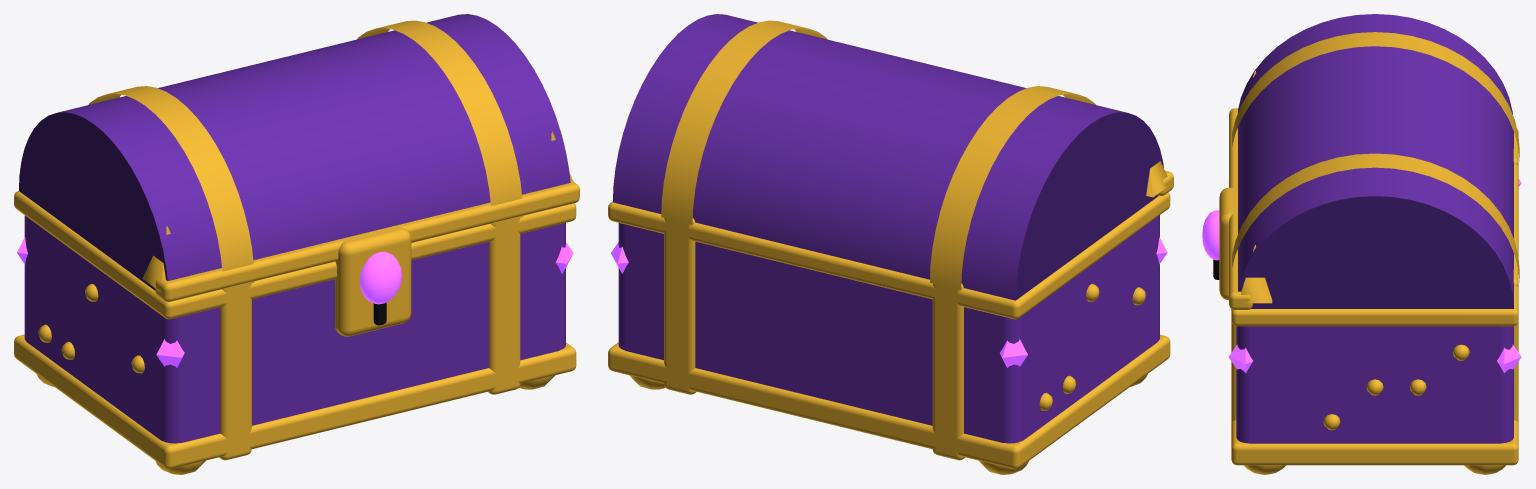
Rendered from chest_epic.glb.
3 renders of one model, left to right at view 1: azimuth 30°, elevation 25°; view 2: azimuth 150°, elevation 25°; view 3: azimuth 270°, elevation 25°, orthographic. The views are drawn at different scales.
Visible parts, largest first — view 1: LidBarrel, Base, LidCap-1, BaseRim, BaseTopRim, LidFrontRim, LidBand1, LidBand-1, LockPlate, Band1, Band-1, LockGem; view 2: LidBarrel, Base, LidCap-1, BaseRim, BaseTopRim, LidBand-1, LidBand1, Band1, Band-1; view 3: LidBarrel, Base, LidCap1, BaseRim, BaseTopRim, LidBand-1, LidBand1, LidFrontRim, LockPlate, Band1, LockGem, Corner1 (+2 smaller).
Boxes of the visible parts, left/top/right/bottom form: LidBarrel: left=57, top=14, right=570, bottom=280; Base: left=24, top=215, right=565, bottom=443; LidCap-1: left=19, top=112, right=167, bottom=290; BaseRim: left=14, top=334, right=576, bottom=469; BaseTopRim: left=14, top=191, right=576, bottom=319; LidFrontRim: left=155, top=181, right=579, bottom=301; LidBand1: left=357, top=20, right=523, bottom=224; LidBand-1: left=88, top=86, right=254, bottom=290; LockPlate: left=335, top=227, right=411, bottom=336; Band1: left=488, top=218, right=520, bottom=394; Band-1: left=219, top=283, right=251, bottom=460; LockGem: left=360, top=251, right=401, bottom=304; LidBarrel: left=613, top=14, right=1127, bottom=300; Base: left=618, top=215, right=1159, bottom=443; LidCap-1: left=1015, top=112, right=1163, bottom=300; BaseRim: left=608, top=334, right=1170, bottom=469; BaseTopRim: left=608, top=192, right=1170, bottom=319; LidBand-1: left=930, top=86, right=1095, bottom=290; LidBand1: left=661, top=20, right=827, bottom=224; Band1: left=664, top=218, right=696, bottom=394; Band-1: left=932, top=283, right=964, bottom=460; LidBarrel: left=1238, top=14, right=1513, bottom=306; Base: left=1236, top=326, right=1513, bottom=443; LidCap1: left=1238, top=196, right=1513, bottom=308; BaseRim: left=1231, top=420, right=1518, bottom=465; BaseTopRim: left=1231, top=129, right=1518, bottom=326; LidBand-1: left=1232, top=32, right=1519, bottom=160; LidBand1: left=1232, top=153, right=1519, bottom=282; LidFrontRim: left=1229, top=108, right=1252, bottom=309; LockPlate: left=1219, top=187, right=1234, bottom=300; Band1: left=1231, top=269, right=1518, bottom=422; LockGem: left=1202, top=210, right=1219, bottom=260; Corner1: left=1239, top=244, right=1272, bottom=303.
Size of the model in its own units: 0.936 by 0.676 by 0.6667.
